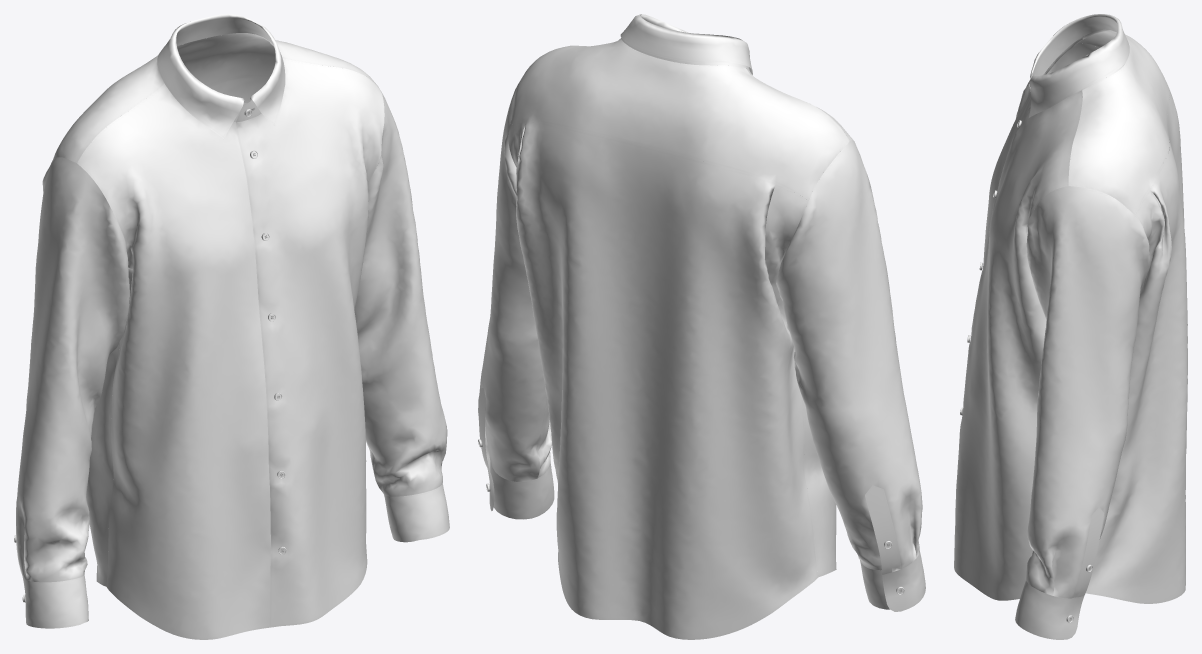
File: camicia-transformed.glb
The picture shows the model from 3 angles, left to right: view 1: azimuth 30°, elevation 25°; view 2: azimuth 150°, elevation 25°; view 3: azimuth 270°, elevation 25°; orthographic projection. The views are drawn at different scales.
Parts seen in each view (by area): view 1: Cloth; view 2: Cloth; view 3: Cloth.
Part boxes in pixels (x1,y1,x2,y2): Cloth: (16, 14, 449, 639); Cloth: (478, 14, 925, 639); Cloth: (954, 14, 1187, 639).
Bounding box in the file's own units: 0.6104 × 0.7763 × 0.3039.
1 material, 1 textured.
